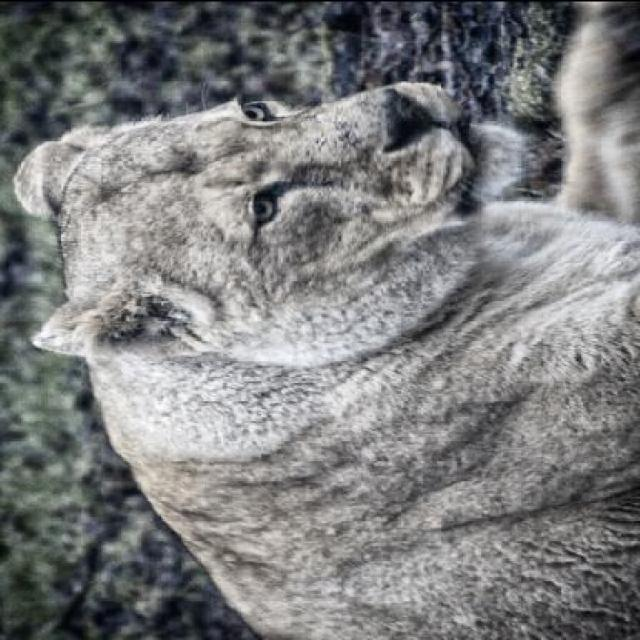Lion: (9, 63, 638, 639)
